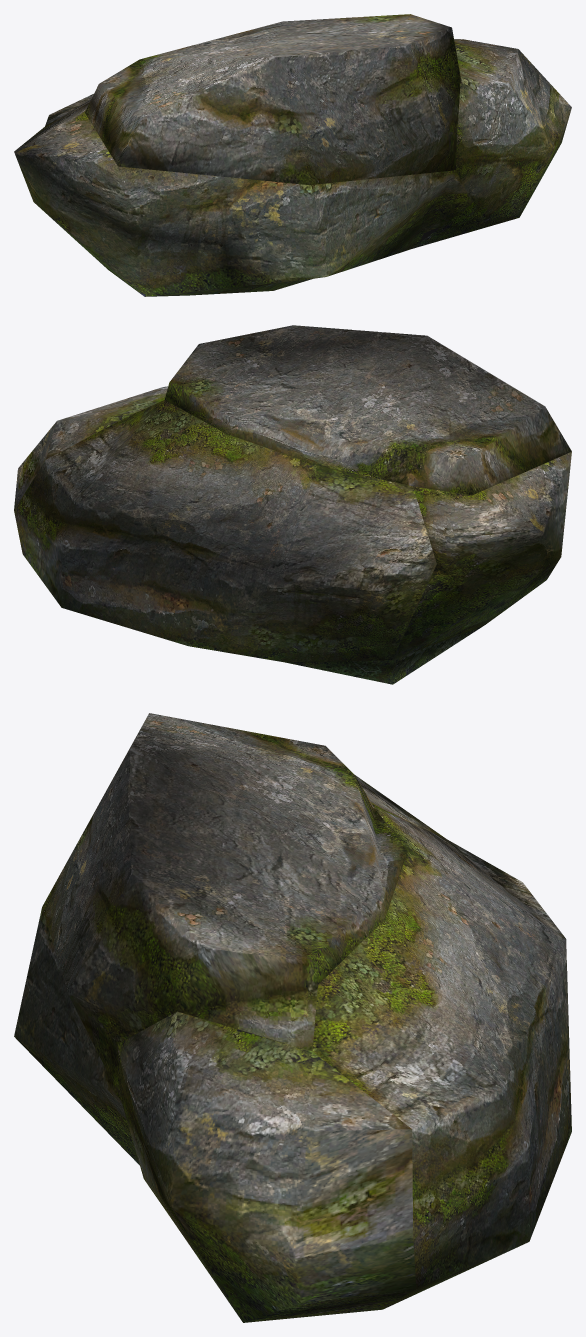
Rendered from Rock6_lod2.glb.
3 renders of one model, top to bottom at view 1: azimuth 30°, elevation 25°; view 2: azimuth 150°, elevation 25°; view 3: azimuth 270°, elevation 25°, orthographic. The views are drawn at different scales.
Parts seen in each view (by area): view 1: common_rock6_lod2; view 2: common_rock6_lod2; view 3: common_rock6_lod2.
Boxes of the visible parts, box(x1,y1,x2,y2) form: common_rock6_lod2: box(14, 14, 571, 296); common_rock6_lod2: box(14, 325, 571, 684); common_rock6_lod2: box(14, 713, 571, 1322).
Bounding box in the file's own units: 3.6 × 1.7 × 2.22.
Materials: 1 (1 with a texture image).
